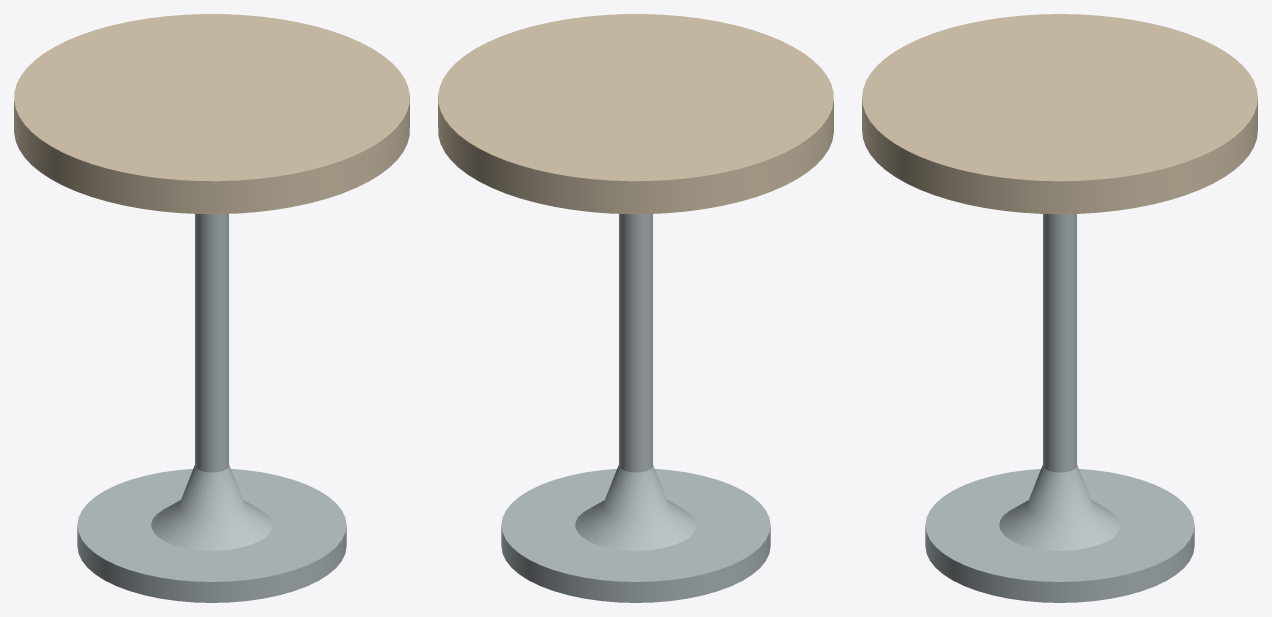
File: prod-1773061941304-iddbn.glb
The picture shows the model from 3 angles, left to right: view 1: azimuth 30°, elevation 25°; view 2: azimuth 150°, elevation 25°; view 3: azimuth 270°, elevation 25°; orthographic projection.
Parts seen in each view (by area): view 1: Round or oval tabletop.006, Pedestal foot.004; view 2: Round or oval tabletop.006, Pedestal foot.004; view 3: Round or oval tabletop.006, Pedestal foot.004.
Part boxes in pixels (left/top/right/bottom): Round or oval tabletop.006: left=14, top=14, right=409, bottom=214; Pedestal foot.004: left=77, top=214, right=346, bottom=602; Round or oval tabletop.006: left=438, top=14, right=833, bottom=214; Pedestal foot.004: left=501, top=214, right=770, bottom=602; Round or oval tabletop.006: left=862, top=14, right=1257, bottom=214; Pedestal foot.004: left=925, top=214, right=1194, bottom=602.
Bounding box in the file's own units: 0.6 × 0.75 × 0.6.
